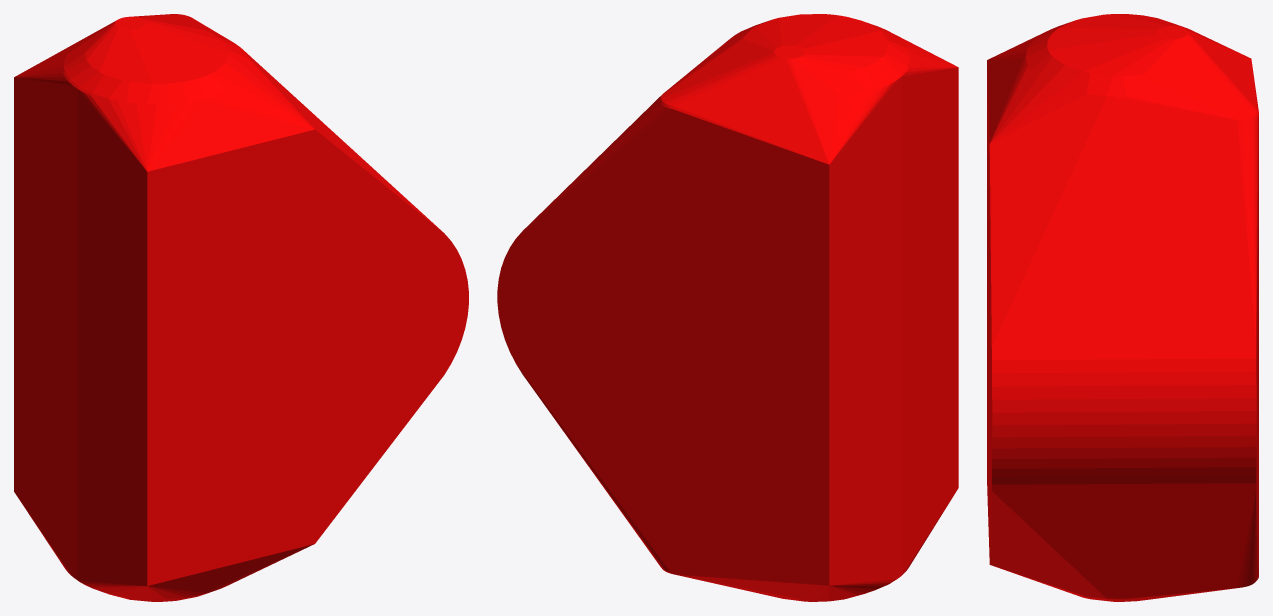
Rendered from col_mcp_link.gltf.
3 renders of one model, left to right at view 1: azimuth 30°, elevation 25°; view 2: azimuth 150°, elevation 25°; view 3: azimuth 270°, elevation 25°, orthographic.
Visible parts, largest first — view 1: col_mcp_link; view 2: col_mcp_link; view 3: col_mcp_link.
Part boxes in pixels (<box>): col_mcp_link: <box>14,14,468,601</box>; col_mcp_link: <box>497,14,958,601</box>; col_mcp_link: <box>987,14,1258,601</box>.
Bounding box in the file's own units: 0.0301 × 0.046 × 0.0211.
